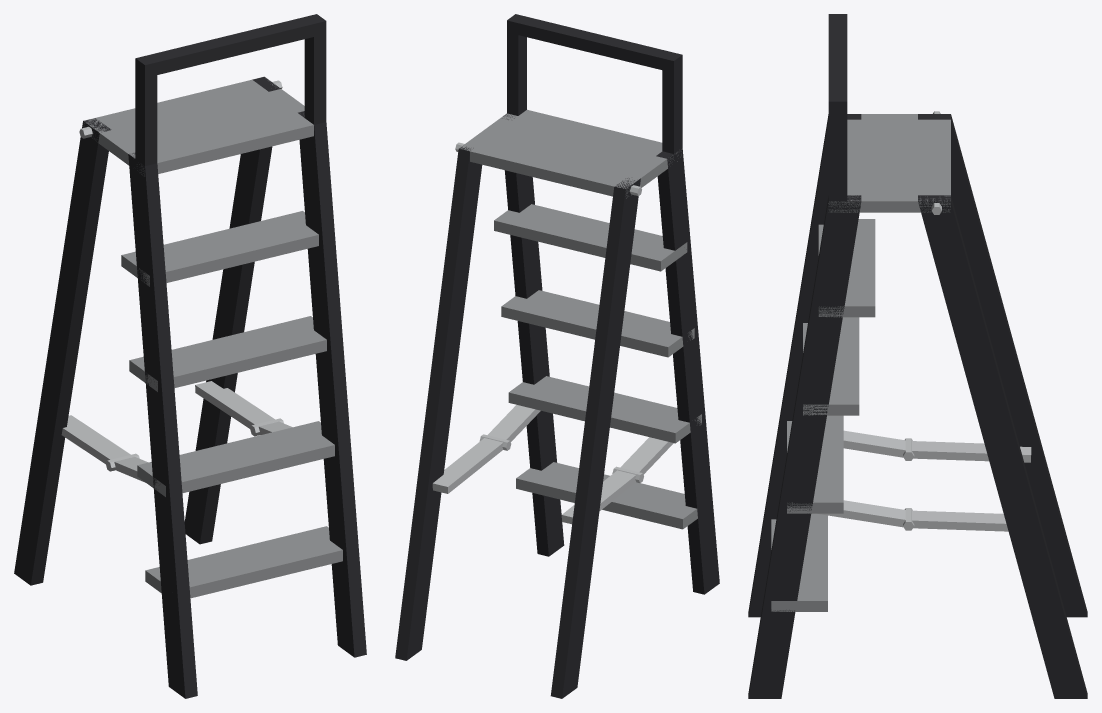
Rendered from FN_Ladder_Step.glb.
The picture shows the model from 3 angles, left to right: view 1: azimuth 30°, elevation 25°; view 2: azimuth 150°, elevation 25°; view 3: azimuth 270°, elevation 25°; orthographic projection. The views are drawn at different scales.
Visible parts, largest first — view 1: FN_Ladder_Step; view 2: FN_Ladder_Step; view 3: FN_Ladder_Step.
Part boxes in pixels (x1=…): FN_Ladder_Step: x1=14, y1=14, x2=366, y2=698; FN_Ladder_Step: x1=395, y1=14, x2=719, y2=698; FN_Ladder_Step: x1=748, y1=14, x2=1087, y2=698.
Size of the model in its own units: 0.48 by 1.4 by 0.72.
1 material, 1 textured.
